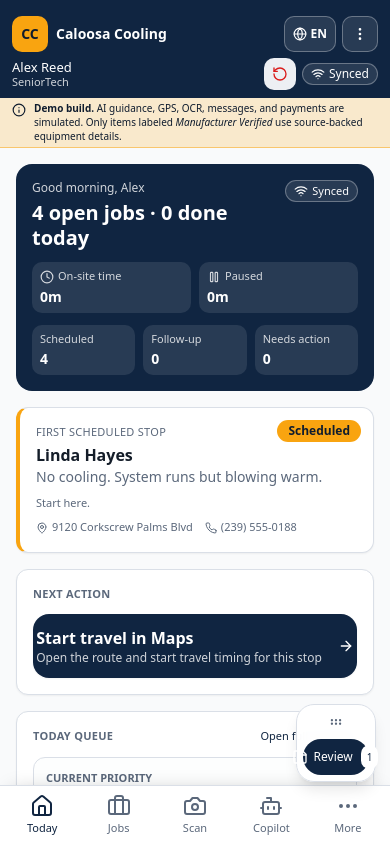
Scenario: migration baseline › keeps the latest sent note and latest Codex reply visible without opening the conversation trail
This screenshot has width=390, height=844.
Click the button with aria-label "review layer" at (336, 757), box left=303, top=739, right=369, bottom=775
(page scrolled)
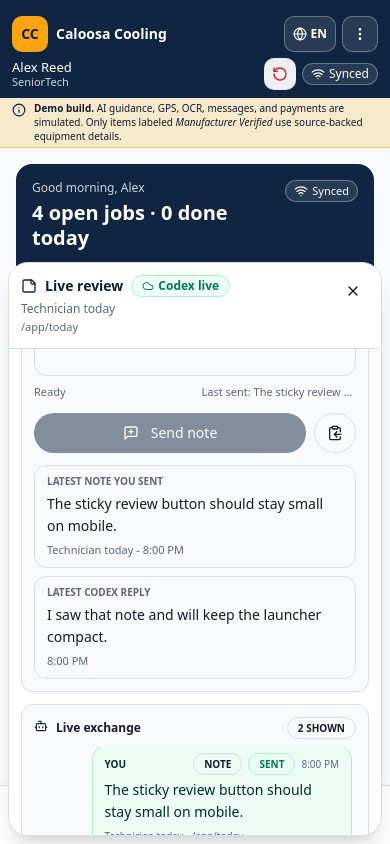
Result: the text "Latest note you sent" is shown at left=47, top=474, right=163, bottom=488
Result: the text "Latest Codex reply" is shown at left=47, top=585, right=151, bottom=599
